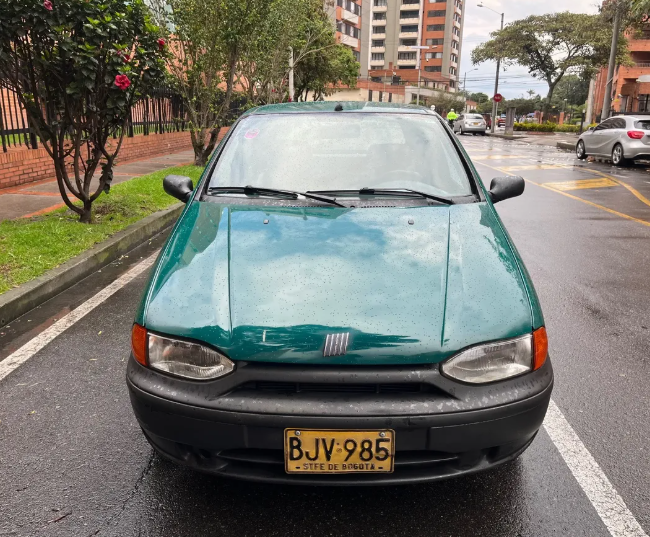placa: (284, 428, 395, 476)
